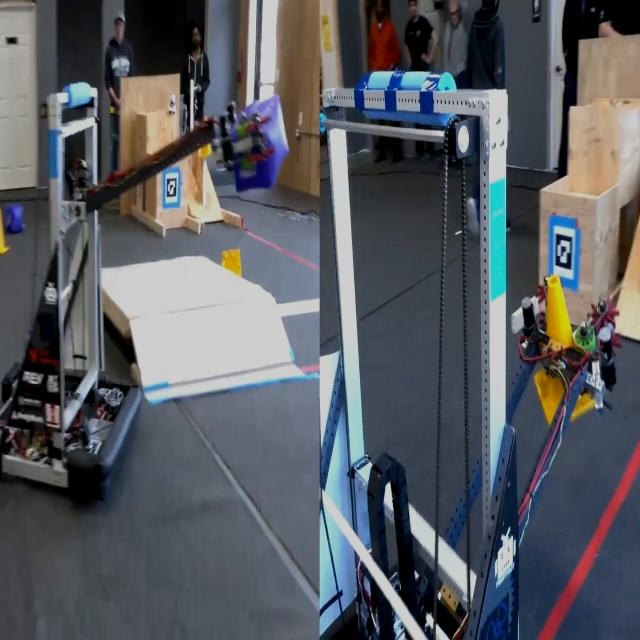frc_cone: (534, 276, 591, 426), (191, 111, 215, 165), (220, 246, 242, 280), (0, 205, 8, 263)
frc_cube: (227, 103, 290, 197), (4, 197, 23, 239)
